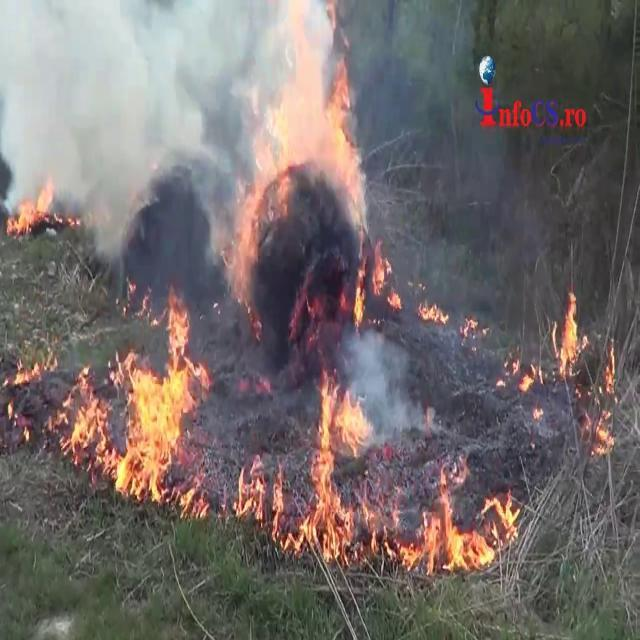Fire: (224, 2, 388, 306), (56, 292, 211, 508), (296, 361, 376, 566), (528, 282, 618, 454), (394, 469, 524, 577), (233, 448, 289, 551), (552, 284, 586, 382), (8, 174, 58, 240), (594, 341, 618, 454)
Smoke: (0, 0, 235, 287)
